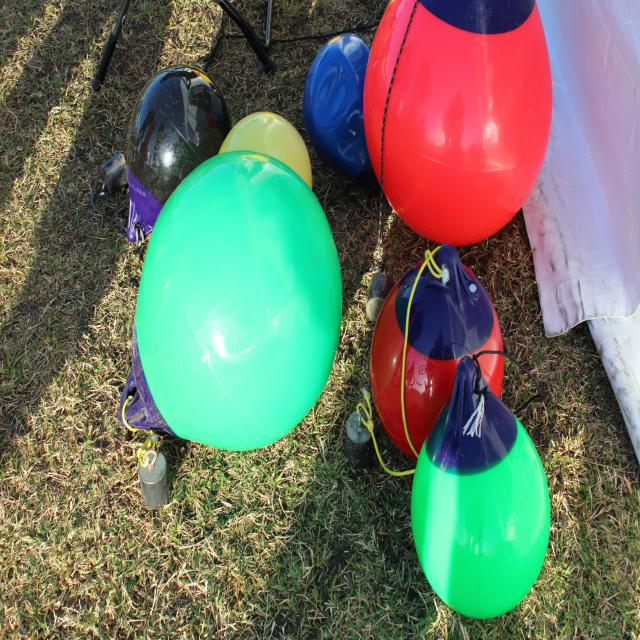green-buoy: (120, 149, 346, 463), (404, 402, 560, 629)
red-buoy: (362, 0, 561, 253)
